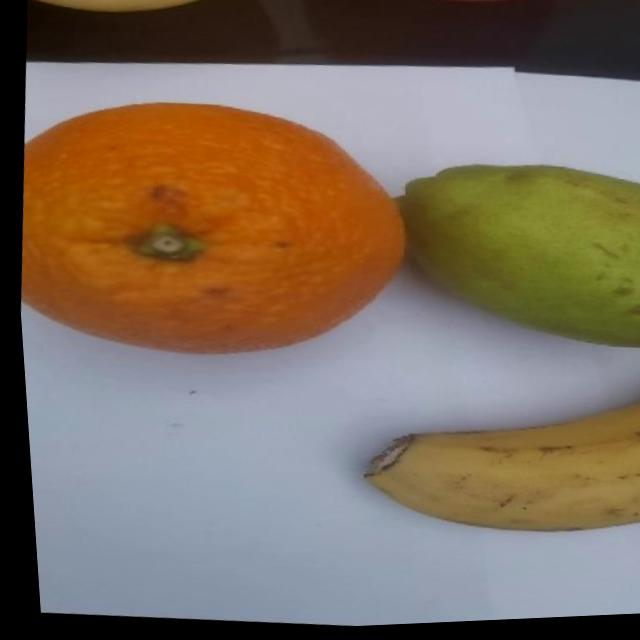Banana: (345, 372, 640, 555)
Orange: (5, 83, 420, 381)
